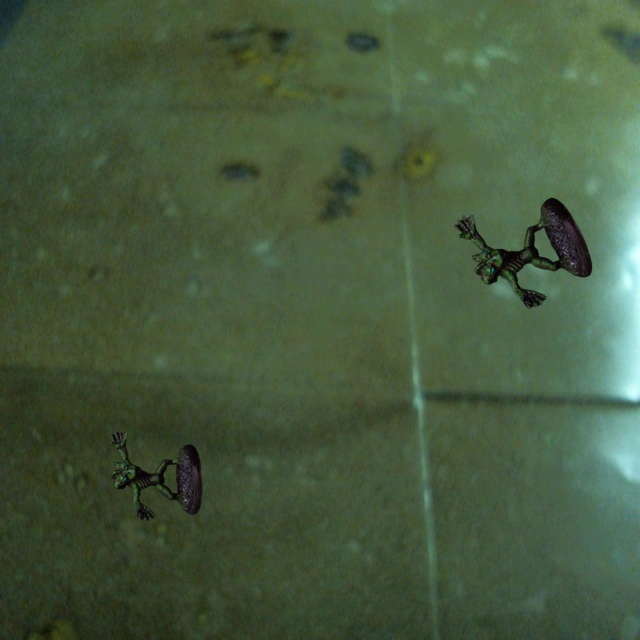pieza_juego: (454, 198, 591, 308), (110, 429, 202, 520)
